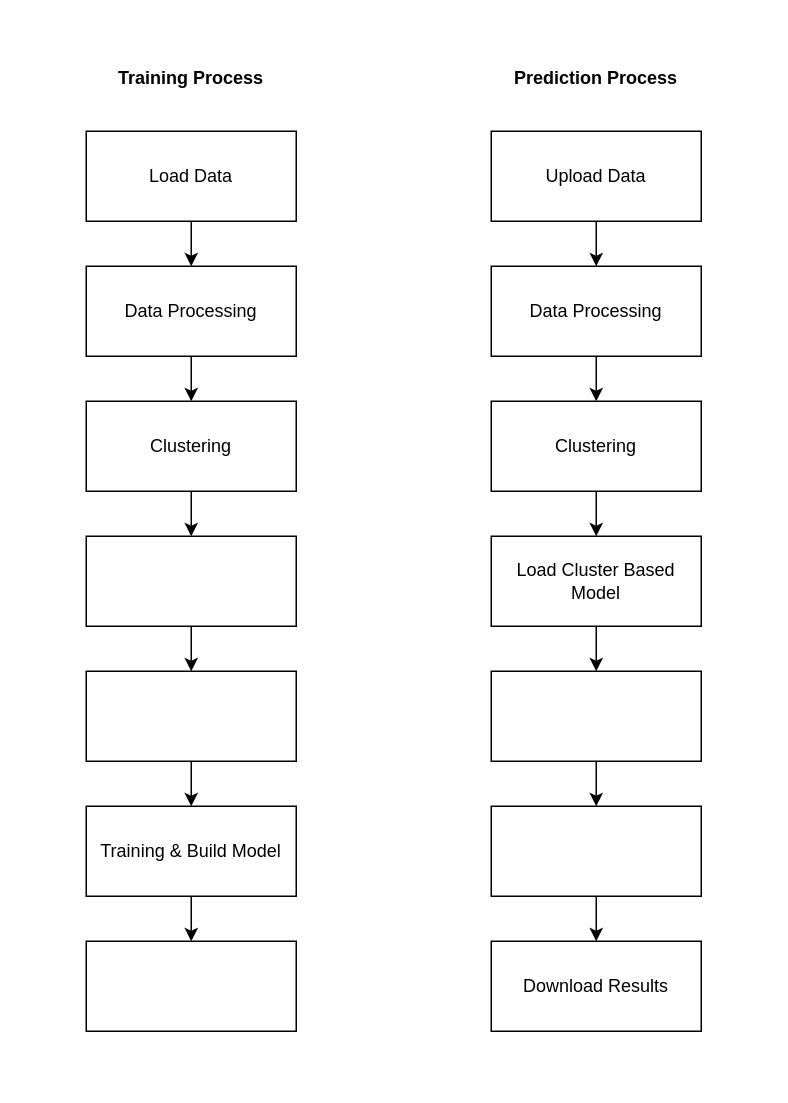
Image size: 788x1103. Some labels were removed from this diagram. Each missing label, with the box of its shape:
Cluster Based Model Selection: (85, 535, 296, 626)
Export Result To File: (490, 805, 701, 896)
Hyper Parameter Tuning: (85, 670, 296, 761)
Prediction: (490, 670, 701, 761)
Save Models: (85, 940, 296, 1031)
